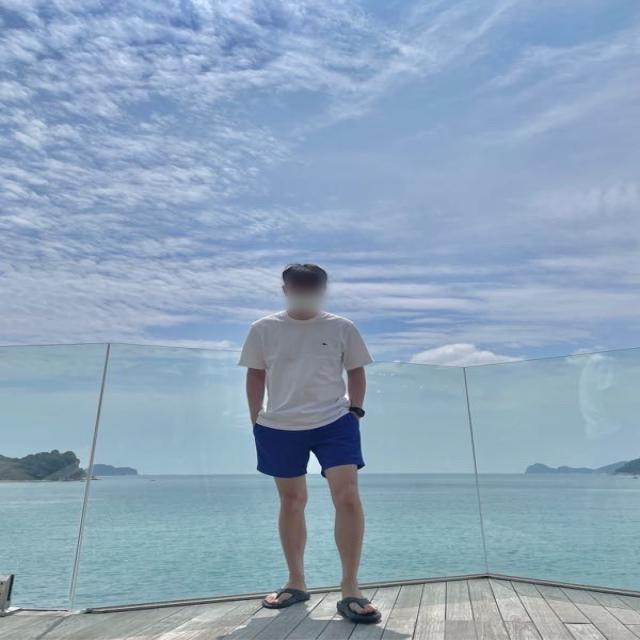shortpants: (253, 409, 367, 477)
shortsleeve: (234, 309, 370, 429)
